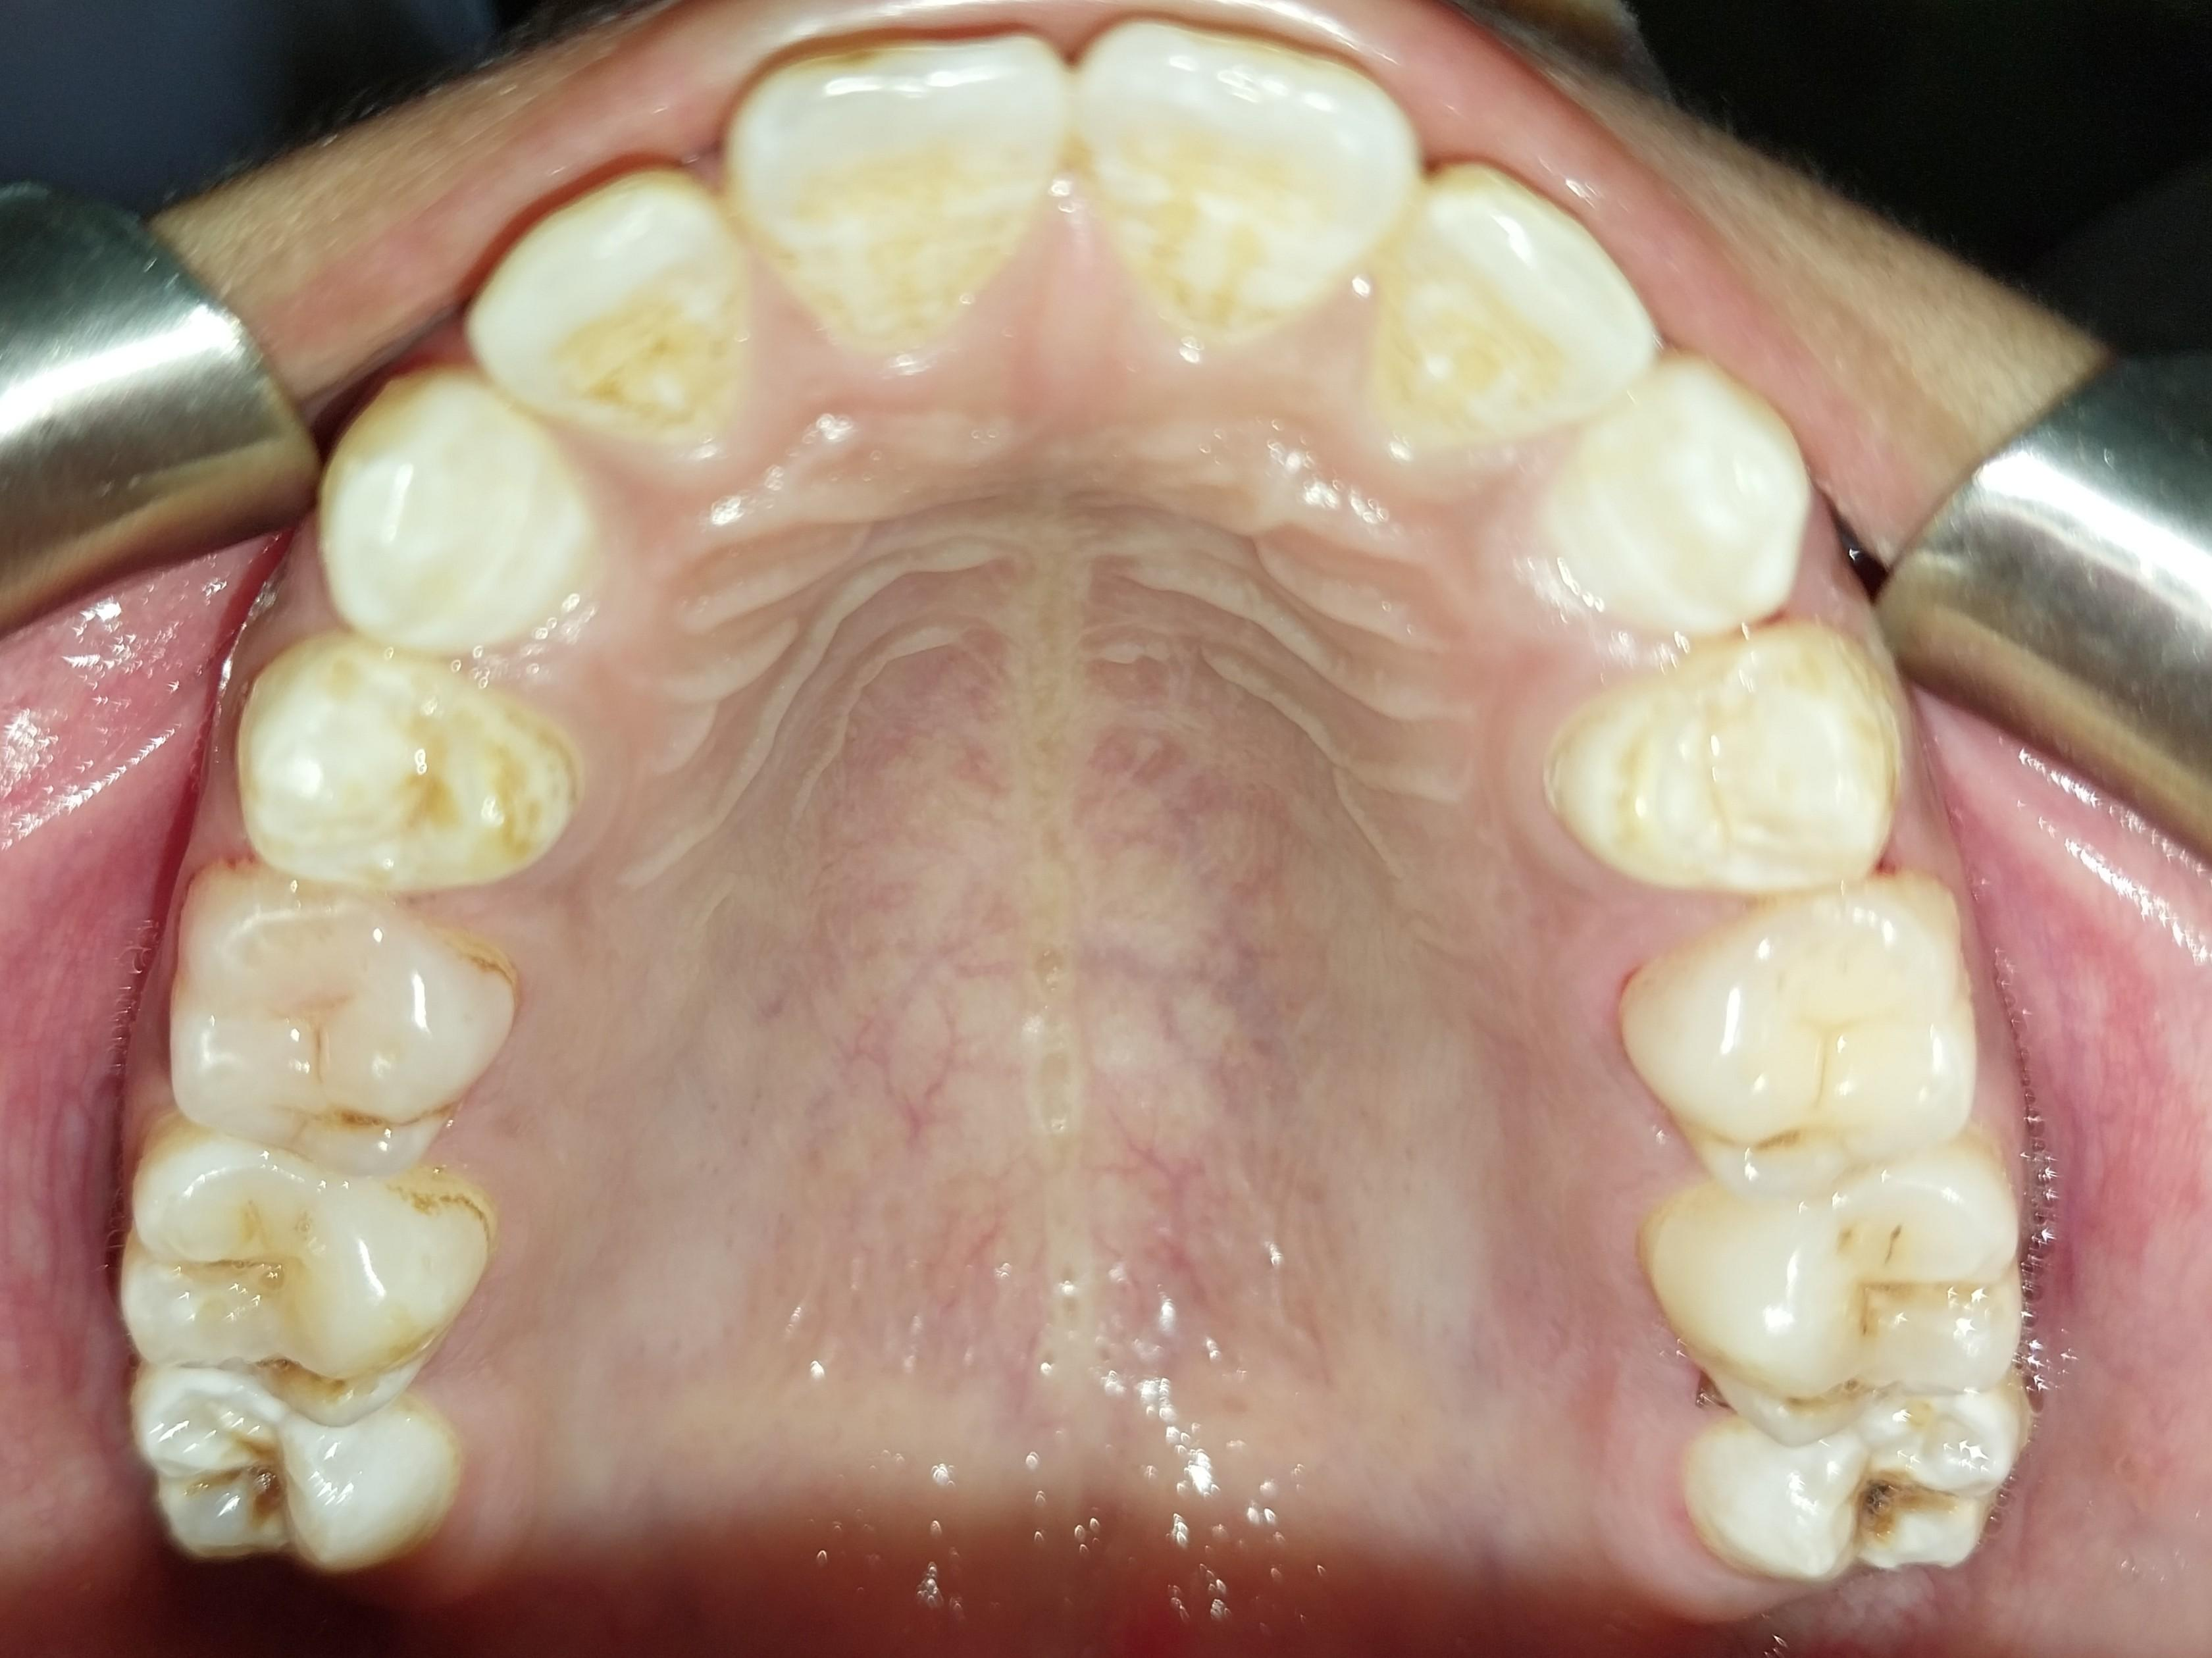D: (1649, 1181, 2053, 1455), (1689, 1415, 2030, 1587), (156, 1393, 450, 1581)
